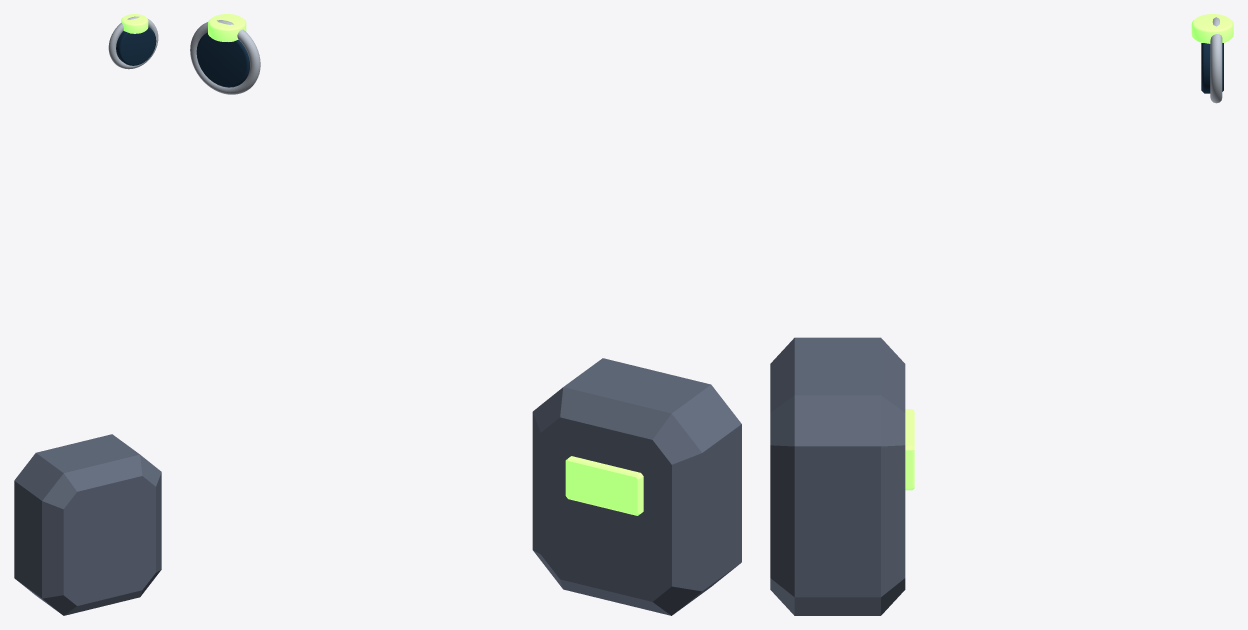
File: tower_detector_analysis_s3.glb
The picture shows the model from 3 angles, left to right: view 1: azimuth 30°, elevation 25°; view 2: azimuth 150°, elevation 25°; view 3: azimuth 270°, elevation 25°; orthographic projection. The views are drawn at different scales.
Parts seen in each view (by area): view 1: detector_recorder, detector_analysis_lens, detector_analysis_lens_ring, detector_up_analysis_l3_stud; view 2: detector_recorder, detector_recorder_face, detector_analysis_lens, detector_analysis_lens_ring, detector_up_analysis_l3_stud; view 3: detector_recorder, detector_up_analysis_l3_stud, detector_analysis_lens_ring, detector_recorder_face.
Boxes of the visible parts, bbox=[...] form: detector_recorder: bbox=[14, 434, 161, 615]; detector_analysis_lens: bbox=[116, 27, 156, 65]; detector_analysis_lens_ring: bbox=[108, 16, 158, 69]; detector_up_analysis_l3_stud: bbox=[121, 14, 148, 33]; detector_recorder: bbox=[532, 358, 741, 615]; detector_recorder_face: bbox=[565, 456, 643, 515]; detector_analysis_lens: bbox=[196, 32, 249, 87]; detector_analysis_lens_ring: bbox=[190, 20, 260, 94]; detector_up_analysis_l3_stud: bbox=[208, 14, 246, 41]; detector_recorder: bbox=[770, 337, 905, 615]; detector_up_analysis_l3_stud: bbox=[1191, 14, 1233, 43]; detector_analysis_lens_ring: bbox=[1210, 17, 1222, 103]; detector_recorder_face: bbox=[905, 409, 914, 490].
Size of the model in its own units: 0.6004 by 1.02 by 0.618.
